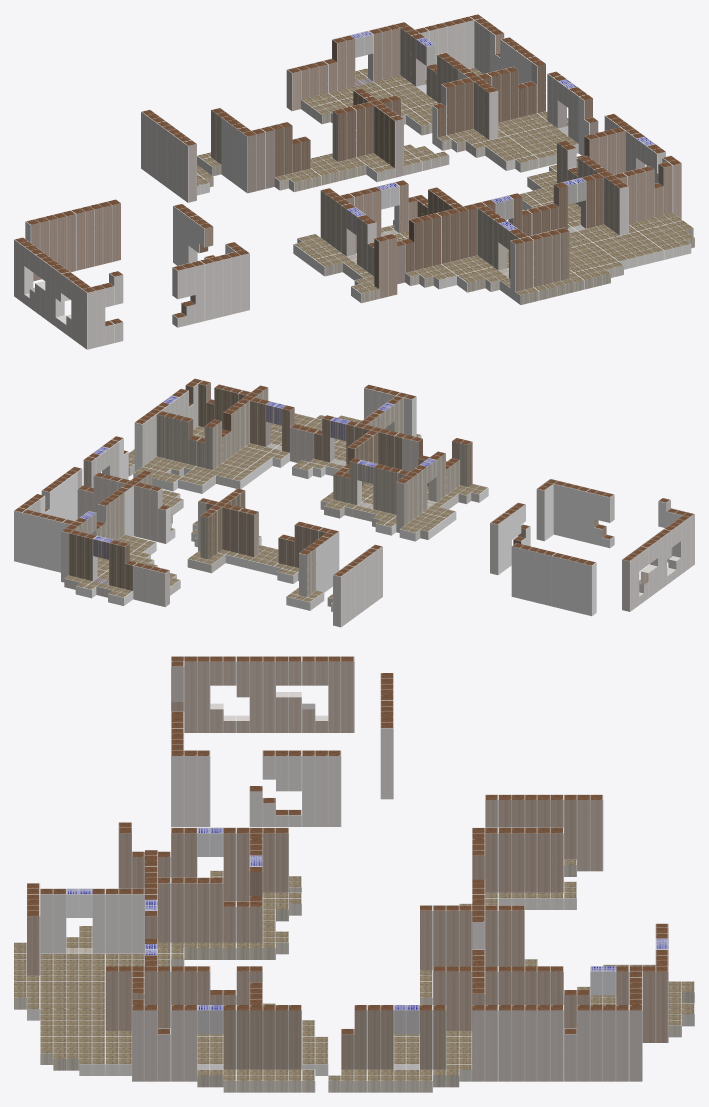
The picture shows the model from 3 angles, top to bottom: view 1: azimuth 30°, elevation 25°; view 2: azimuth 150°, elevation 25°; view 3: azimuth 270°, elevation 25°; orthographic projection. The views are drawn at different scales.
Parts seen in each view (by area): view 1: Plano80x80P4; view 2: Plano80x80P4; view 3: Plano80x80P4.
Boxes of the visible parts, bbox=[...] form: Plano80x80P4: bbox=[14, 14, 694, 349]; Plano80x80P4: bbox=[14, 378, 694, 627]; Plano80x80P4: bbox=[14, 656, 694, 1092].
Size of the model in its own units: 66 by 7 by 52.
Materials: 1 (1 with a texture image).
